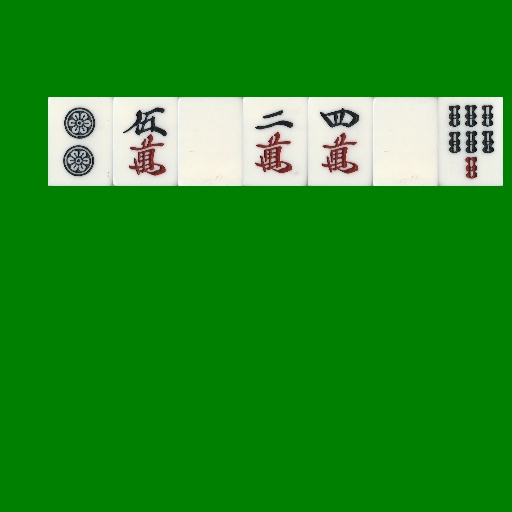2m: (243, 97, 308, 186)
2p: (48, 97, 113, 186)
4m: (308, 97, 373, 186)
5m: (113, 97, 178, 186)
7s: (438, 97, 503, 186)
white: (178, 97, 243, 186), (373, 97, 438, 186)
